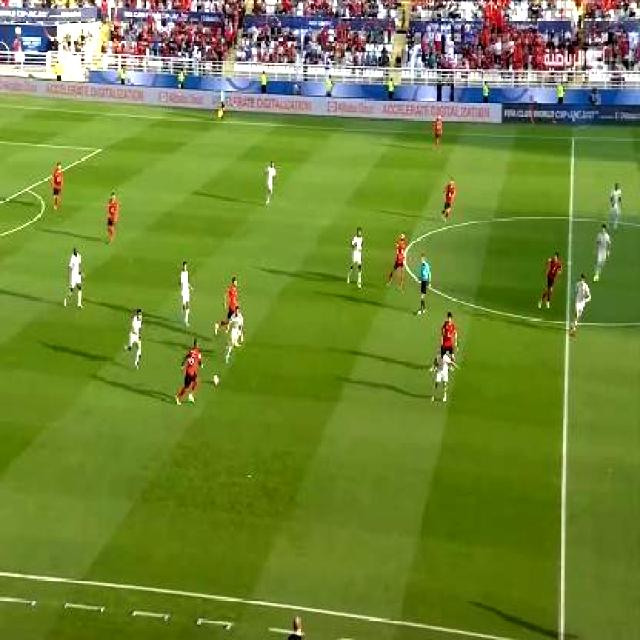bigarea_top_inner: (90, 140, 104, 157)
halfcircle_bottom: (557, 306, 578, 337)
halfcircle_top: (562, 206, 580, 228)
midline_top_intersection: (566, 128, 579, 144)
top_arc_area_intersection: (18, 178, 32, 196)
